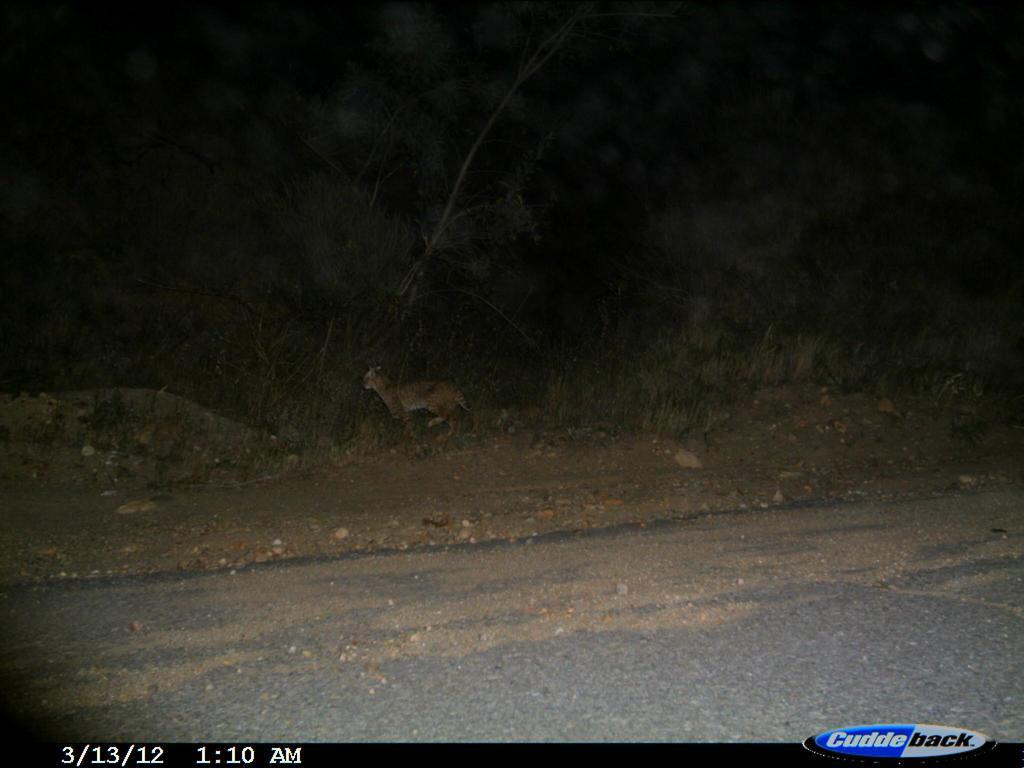bobcat: (345, 355, 479, 451)
